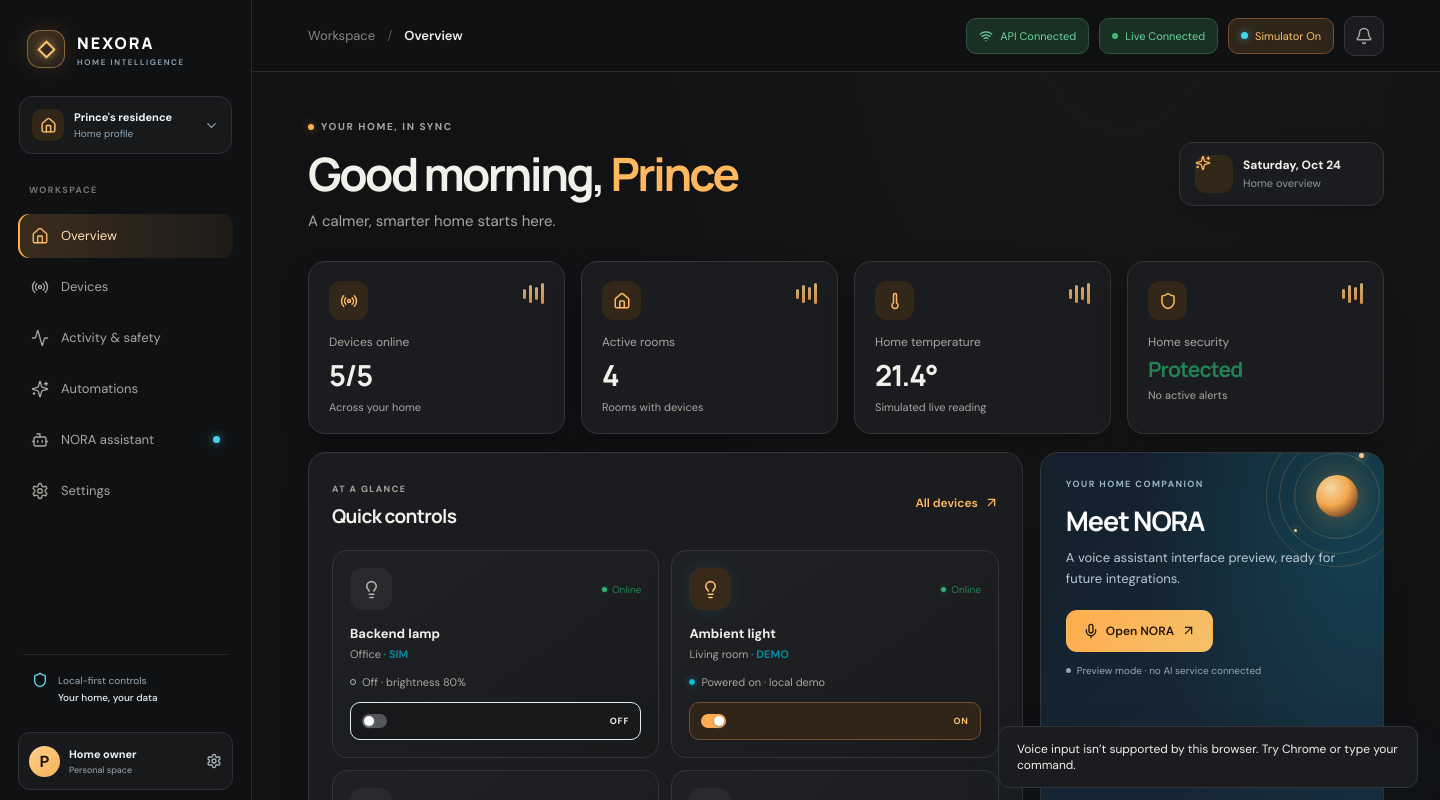
Test: NEXORA dashboard › sends commands for backend simulated devices and renders confirmed state
The width and height of the screenshot is (1440, 800).
Click the button with aria-label "Turn on Backend lamp".
click(374, 721)  # box [350,702,641,740]
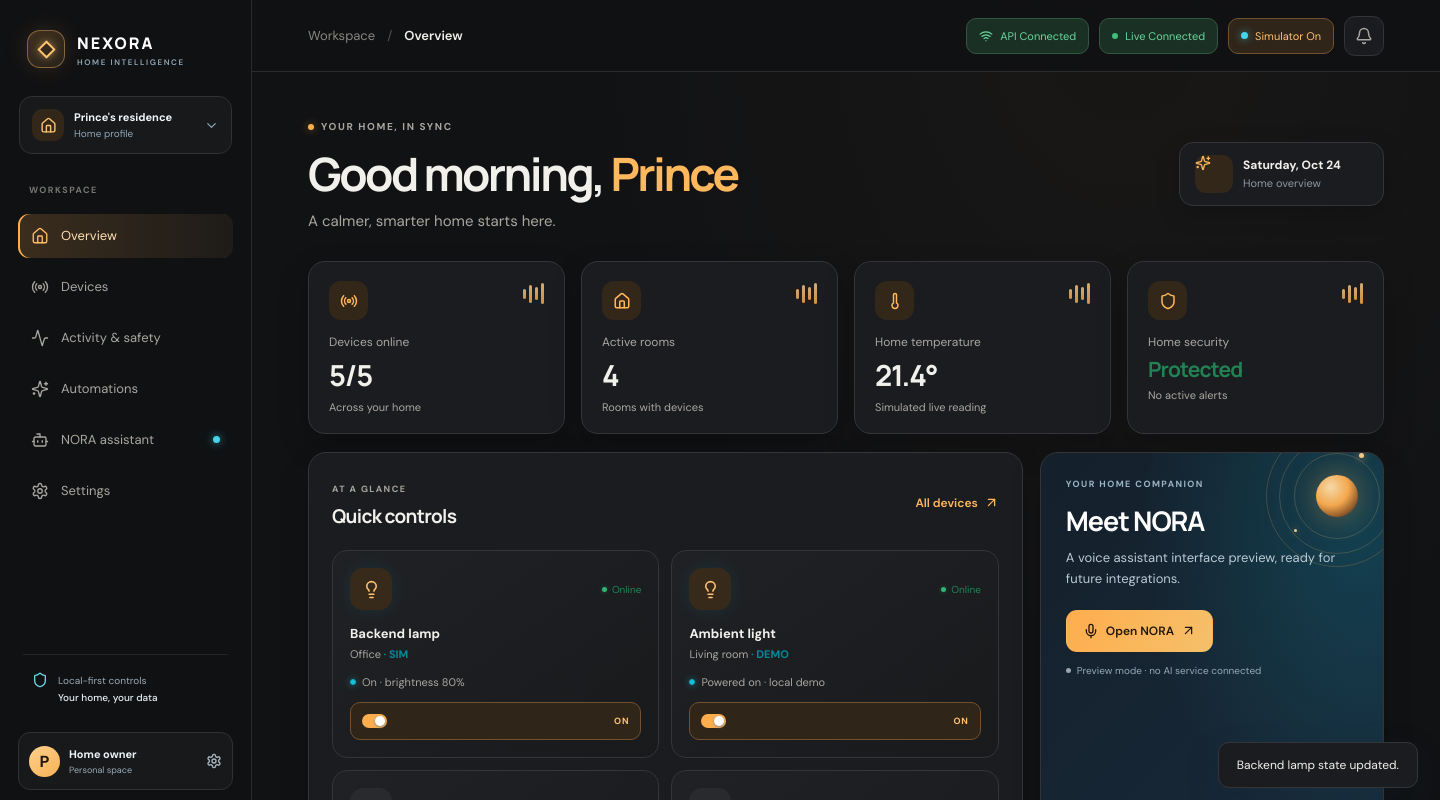
Expected: the text "On · brightness 80%" is shown, [350,675,465,689]
